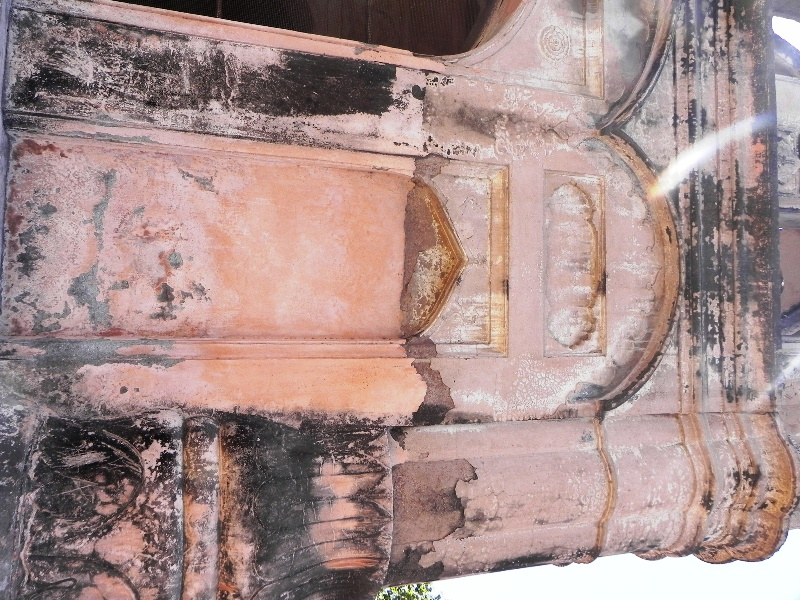Spalling: (402, 143, 455, 423), (391, 450, 475, 554)
